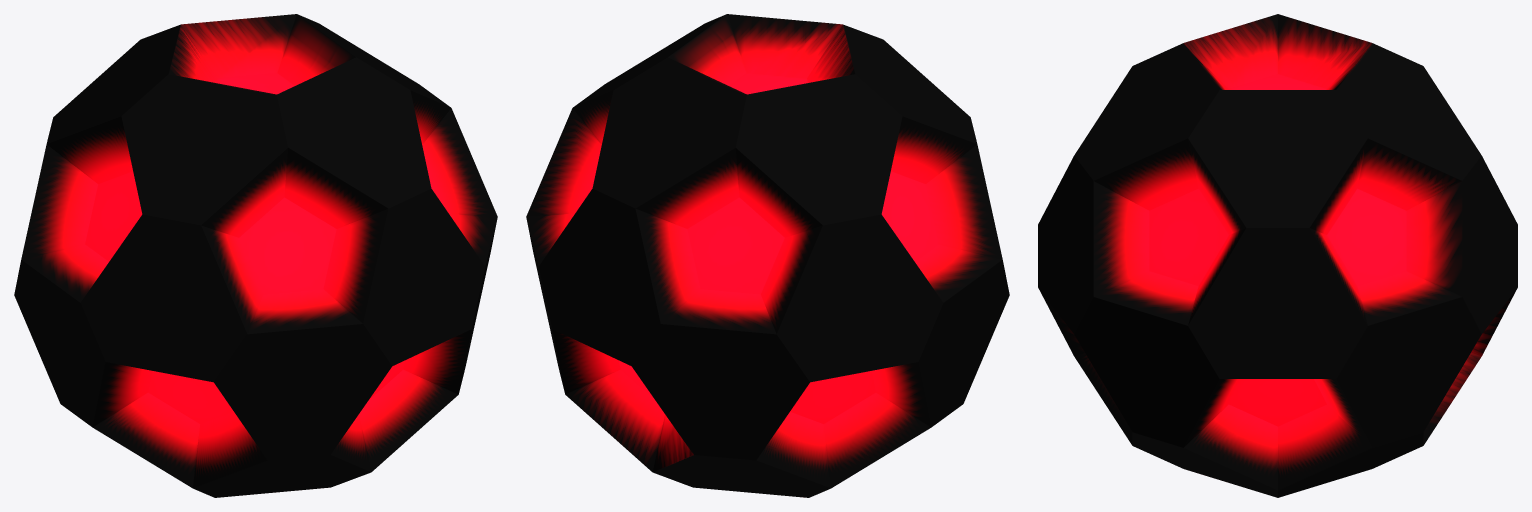
File: BigGuy.fbx
The picture shows the model from 3 angles, left to right: view 1: azimuth 30°, elevation 25°; view 2: azimuth 150°, elevation 25°; view 3: azimuth 270°, elevation 25°; orthographic projection.
Parts seen in each view (by area): view 1: Big-Guy_bake; view 2: Big-Guy_bake; view 3: Big-Guy_bake.
Part boxes in pixels (x1,y1,x2,y2): Big-Guy_bake: [14, 14, 497, 497]; Big-Guy_bake: [526, 14, 1009, 497]; Big-Guy_bake: [1038, 14, 1517, 497].
Size of the model in its own units: 0.1008 by 0.1036 by 0.0953.
Materials: 1 (1 with a texture image).
